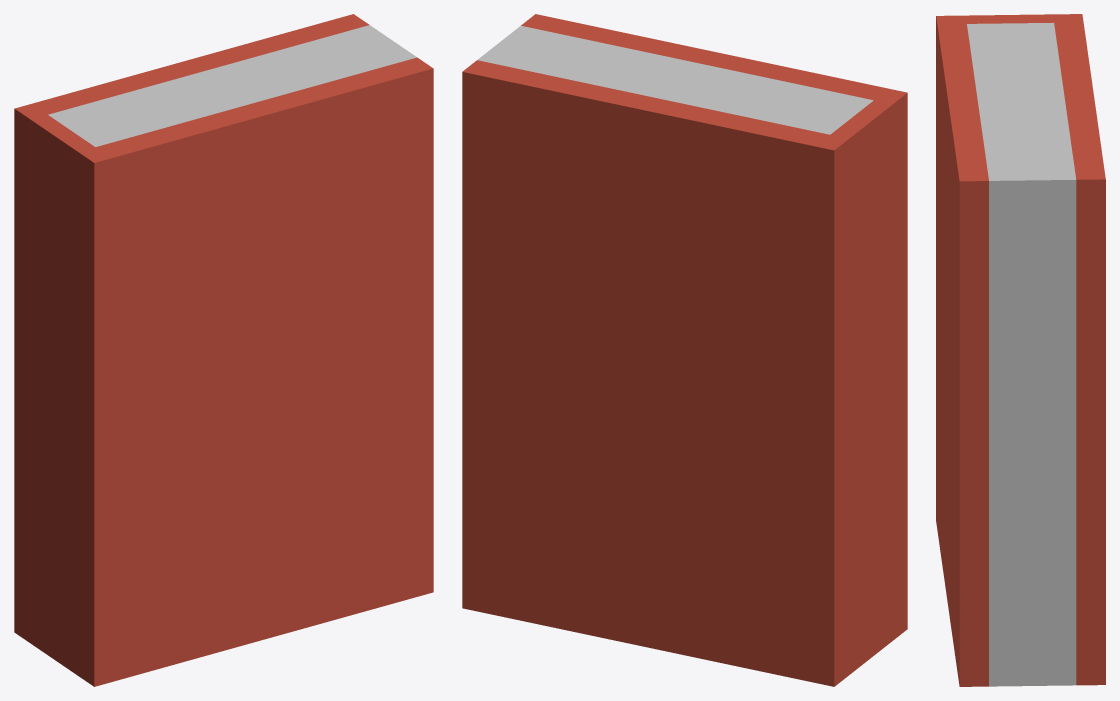
File: SM_Book_04.fbx
3 views of the same model, side by side, from view 1: azimuth 30°, elevation 25°; view 2: azimuth 150°, elevation 25°; view 3: azimuth 270°, elevation 25° (orthographic). The views are drawn at different scales.
Parts seen in each view (by area): view 1: SM_Book_04; view 2: SM_Book_04; view 3: SM_Book_04.
Part boxes in pixels (x1,y1,x2,y2): SM_Book_04: (14, 14, 433, 686); SM_Book_04: (462, 14, 907, 686); SM_Book_04: (936, 14, 1105, 686).
Size of the model in its own units: 20.58 by 29 by 8.82.
Materials: 1 (1 with a texture image).
